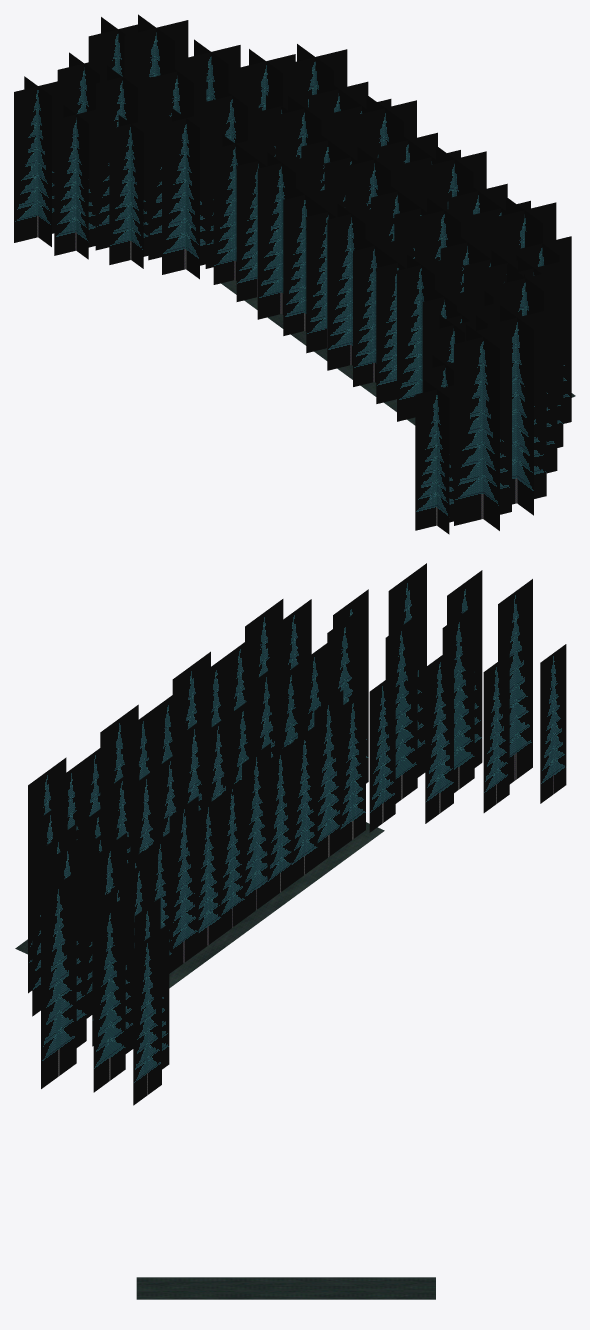
Rendered from lot_hill_top.glb.
The picture shows the model from 3 angles, top to bottom: view 1: azimuth 30°, elevation 25°; view 2: azimuth 150°, elevation 25°; view 3: azimuth 270°, elevation 25°; orthographic projection. The views are drawn at different scales.
Visible parts, largest first — view 1: lot_cedar_171, lot_cedar_172, lot_cedar_30, lot_cedar_0, lot_cedar_10, lot_cedar_20, lot_cedar_170, lot_cedar_21, lot_cedar_60, lot_cedar_90, lot_cedar_120, lot_cedar_11 (+40 smaller); view 2: lot_cedar_2, lot_cedar_1, lot_cedar_171, lot_cedar_0, lot_cedar_150, lot_cedar_151, lot_cedar_60, lot_cedar_161, lot_cedar_170, lot_cedar_110, lot_cedar_160, lot_cedar_140 (+42 smaller); view 3: lot_hill_verge.
Boxes of the visible parts, box(x1,y1,x2,y2) form: lot_cedar_171: box(454, 325, 511, 530); lot_cedar_172: box(487, 305, 546, 515); lot_cedar_30: box(162, 108, 205, 279); lot_cedar_0: box(14, 76, 57, 246); lot_cedar_10: box(54, 105, 95, 259); lot_cedar_20: box(109, 115, 148, 268); lot_cedar_170: box(415, 380, 453, 534); lot_cedar_21: box(148, 59, 206, 260); lot_cedar_60: box(257, 153, 301, 319); lot_cedar_90: box(327, 204, 370, 370); lot_cedar_120: box(397, 255, 440, 421); lot_cedar_11: box(95, 66, 148, 250); lot_cedar_2: box(41, 871, 76, 1088); lot_cedar_1: box(93, 896, 125, 1092); lot_cedar_171: box(498, 579, 532, 784); lot_cedar_0: box(133, 928, 161, 1105); lot_cedar_150: box(425, 647, 453, 823); lot_cedar_151: box(385, 615, 417, 803); lot_cedar_60: box(169, 796, 198, 970); lot_cedar_161: box(442, 605, 474, 792); lot_cedar_170: box(540, 644, 566, 803); lot_cedar_110: box(291, 724, 317, 883); lot_cedar_160: box(483, 653, 509, 812); lot_cedar_140: box(369, 673, 395, 832); lot_hill_verge: box(136, 1277, 435, 1299).
Size of the model in its own units: 20.53 by 16.4 by 63.85.
Materials: 3 (3 with a texture image).
